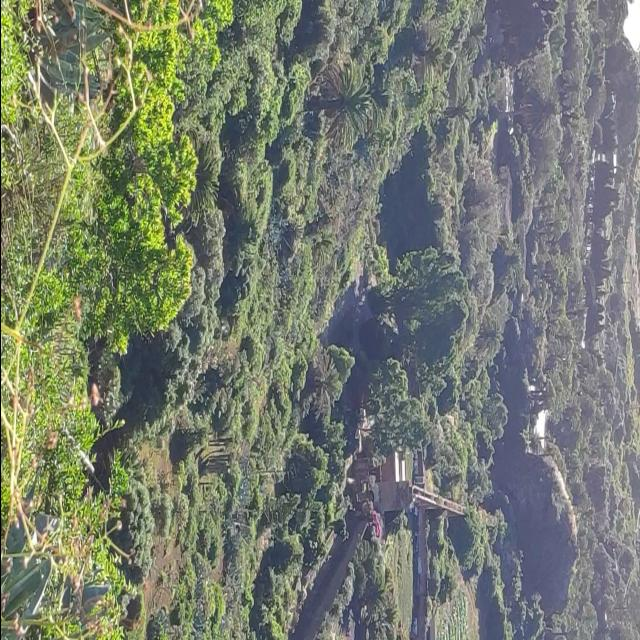Palm-Trees: (309, 62, 371, 148), (496, 83, 558, 141)
